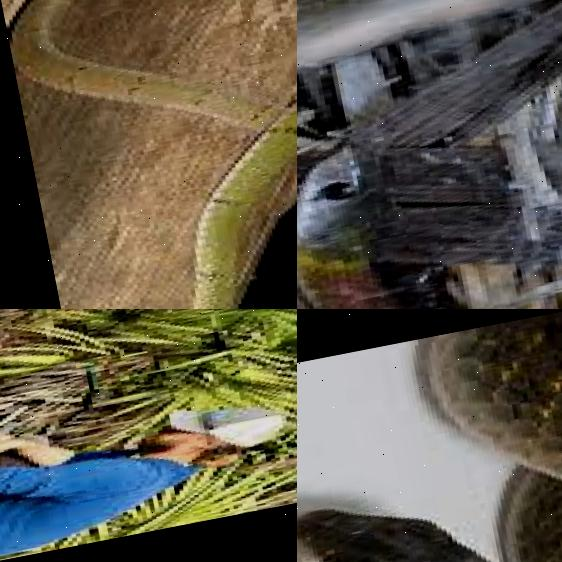snake: (0, 0, 297, 309), (297, 309, 562, 562), (297, 125, 528, 309)
